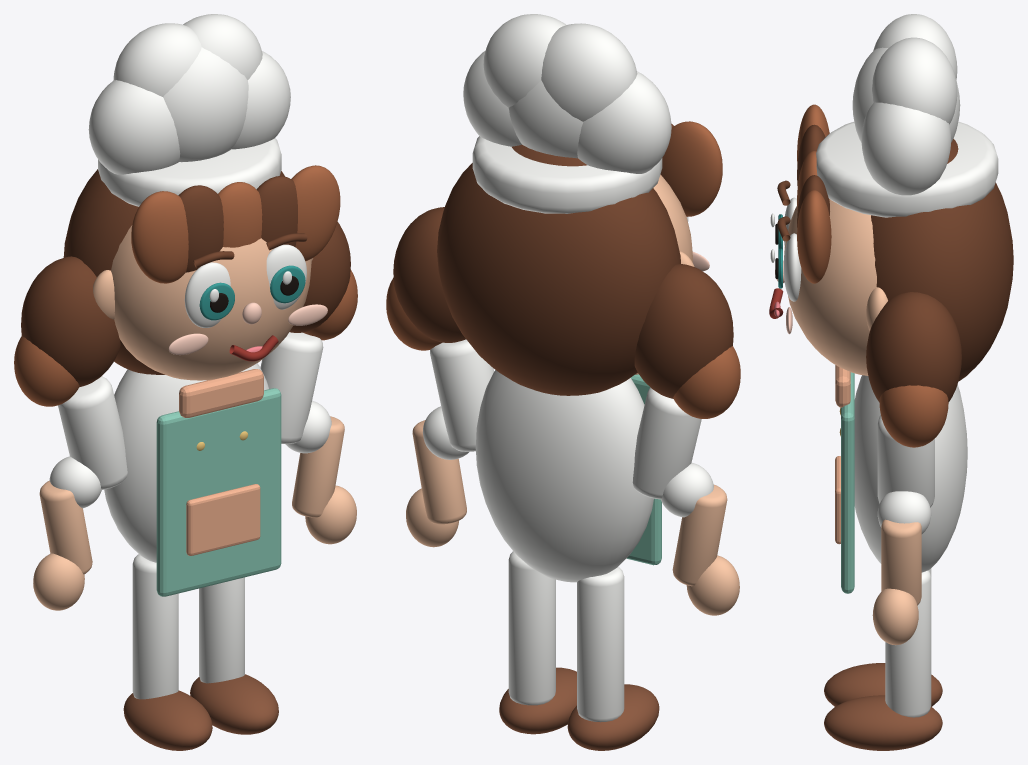
Rendered from maya-chef.glb.
3 views of the same model, side by side, from view 1: azimuth 30°, elevation 25°; view 2: azimuth 150°, elevation 25°; view 3: azimuth 270°, elevation 25° (orthographic). The views are drawn at different scales.
Visible parts, largest first — view 1: Apron, Face, Pigtail, Coat, HatPuff.001, HatPuff, Leg, HatBand, Sleeve, HairBack, Leg.001, HairLock (+28 smaller); view 2: HairBack, Coat, Pigtail, HatBand, Leg, HatPuff.003, Leg.001, HatPuff.001, Pigtail.001, Sleeve, HatPuff.004, Sleeve.001 (+15 smaller); view 3: HairBack, Face, HatBand, Coat, Pigtail.001, HatPuff.002, HatPuff.004, Shoe.001, Leg.001, PigtailTip.001, Sleeve.001, Forearm.001 (+15 smaller).
Part boxes in pixels (x1,y1,x2,y2): Apron: [156, 388, 281, 596]; Face: [111, 225, 311, 380]; Pigtail: [21, 256, 120, 387]; Coat: [104, 363, 268, 562]; HatPuff.001: [88, 80, 180, 174]; HatPuff: [163, 47, 248, 162]; Leg: [132, 554, 178, 699]; HatBand: [98, 138, 281, 206]; Sleeve: [58, 376, 127, 489]; HairBack: [63, 169, 284, 374]; Leg.001: [199, 577, 244, 683]; HairLock: [131, 191, 188, 283]; HairBack: [437, 144, 680, 395]; Coat: [475, 370, 653, 582]; Pigtail: [634, 264, 733, 398]; HatBand: [472, 136, 662, 213]; Leg: [577, 567, 624, 722]; HatPuff.003: [541, 23, 637, 121]; Leg.001: [508, 551, 555, 705]; HatPuff.001: [577, 71, 671, 173]; Pigtail.001: [393, 207, 465, 342]; Sleeve: [632, 387, 701, 499]; HatPuff.004: [483, 14, 566, 107]; Sleeve.001: [430, 339, 494, 451]; HairBack: [871, 139, 1013, 381]; Face: [783, 198, 876, 375]; HatBand: [816, 121, 998, 217]; Coat: [854, 375, 967, 572]; Pigtail.001: [866, 292, 961, 402]; HatPuff.002: [861, 102, 951, 195]; HatPuff.004: [872, 37, 957, 124]; Shoe.001: [824, 695, 942, 750]; Leg.001: [885, 570, 931, 717]; PigtailTip.001: [879, 385, 948, 447]; Sleeve.001: [877, 415, 934, 507]; Forearm.001: [881, 519, 921, 605].
Bounding box in the file's own units: 2.02 × 4.03 × 1.27.
